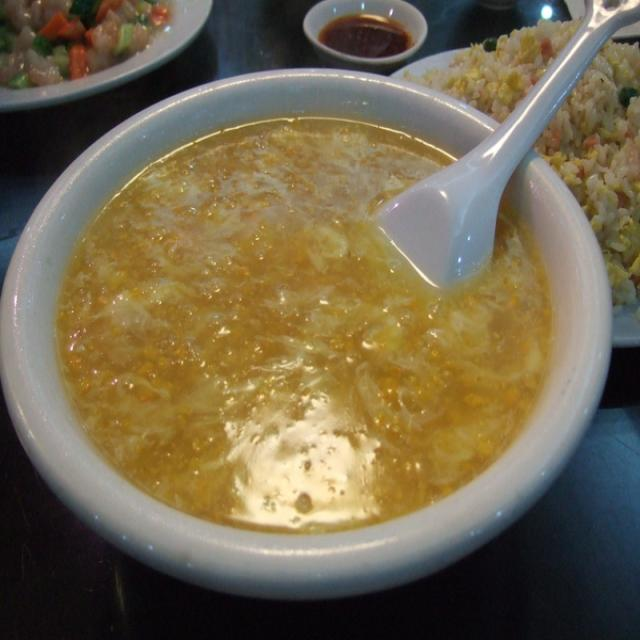汤锅炖物: (14, 88, 586, 588)
